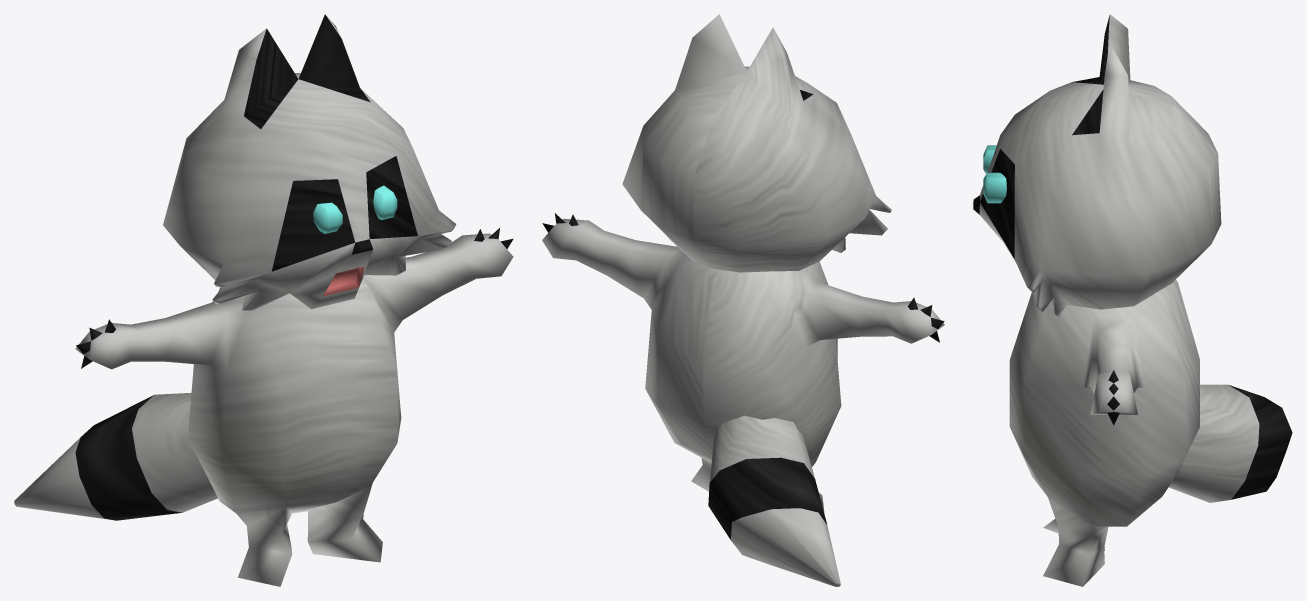
The model's file is RACOON.fbx.
The picture shows the model from 3 angles, left to right: view 1: azimuth 30°, elevation 25°; view 2: azimuth 150°, elevation 25°; view 3: azimuth 270°, elevation 25°; orthographic projection. The views are drawn at different scales.
Parts seen in each view (by area): view 1: RACOON; view 2: RACOON; view 3: RACOON.
Part boxes in pixels (bbox=[...]): RACOON: bbox=[14, 14, 513, 586]; RACOON: bbox=[542, 14, 944, 586]; RACOON: bbox=[973, 14, 1292, 586].
Bounding box in the file's own units: 134 × 156 × 85.36.
